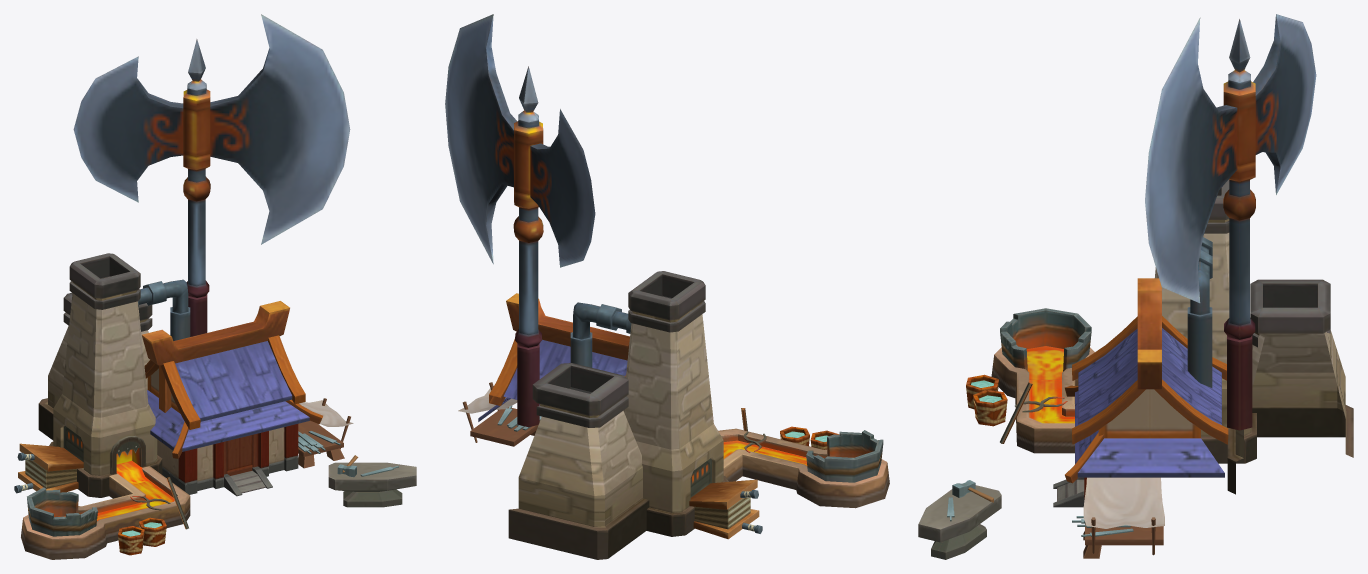
Rendered from Stage_ZhuCheng_TieJiang_04.FBX.
The picture shows the model from 3 angles, left to right: view 1: azimuth 30°, elevation 25°; view 2: azimuth 150°, elevation 25°; view 3: azimuth 270°, elevation 25°; orthographic projection. The views are drawn at different scales.
Parts seen in each view (by area): view 1: Stage_ZhuCheng_TieJiang_04; view 2: Stage_ZhuCheng_TieJiang_04; view 3: Stage_ZhuCheng_TieJiang_04.
Part boxes in pixels (<box>): Stage_ZhuCheng_TieJiang_04: <box>14,14,416,559</box>; Stage_ZhuCheng_TieJiang_04: <box>445,14,889,559</box>; Stage_ZhuCheng_TieJiang_04: <box>918,14,1353,559</box>.
Bounding box in the file's own units: 716 × 787 × 597.
